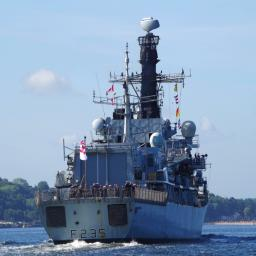Fragata: (33, 8, 215, 245)
